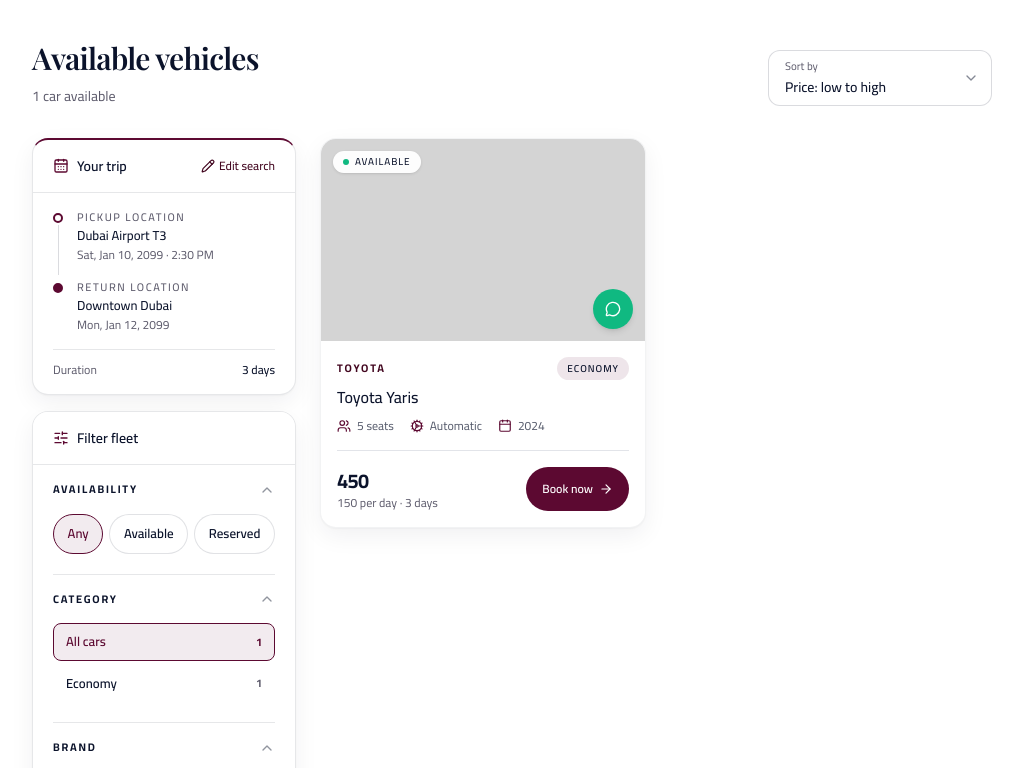
Test: SearchResultsPage › with a dated search › opens the editor prefilled from the Edit link
Expected: the heading "Toyota Yaris" is shown, [337,382,418,412]
Click the button "Edit search" at coordinates (238, 166), box [201,158,275,174]
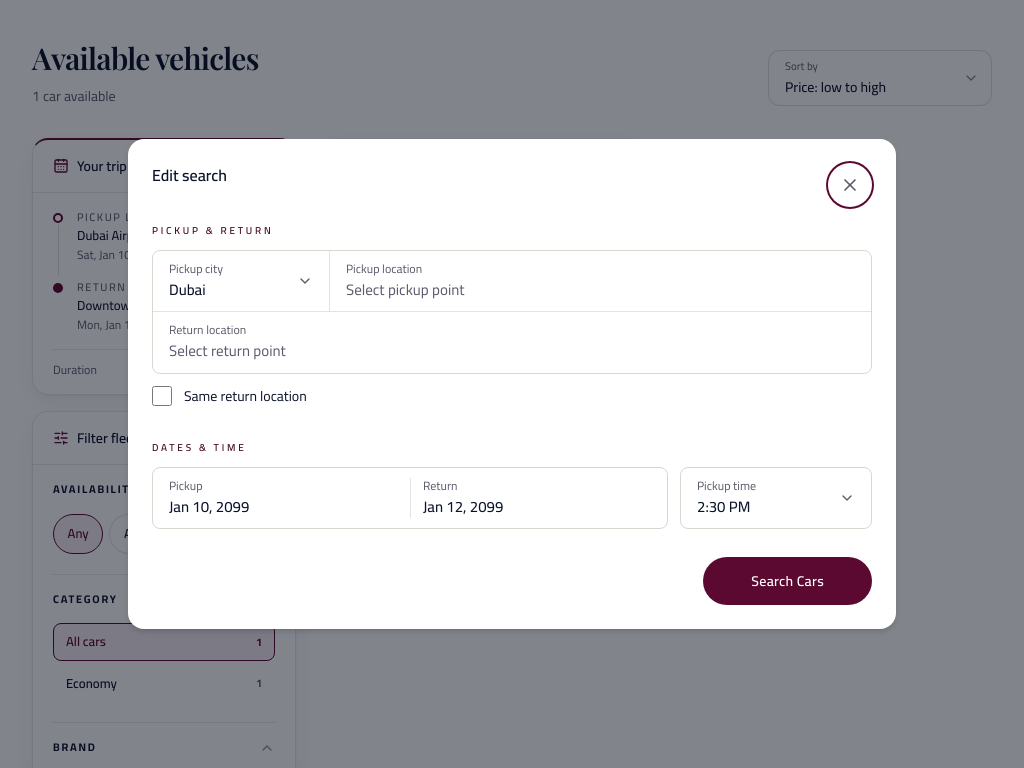
Expected: the button "Search Cars" is shown, [703,557,872,605]
